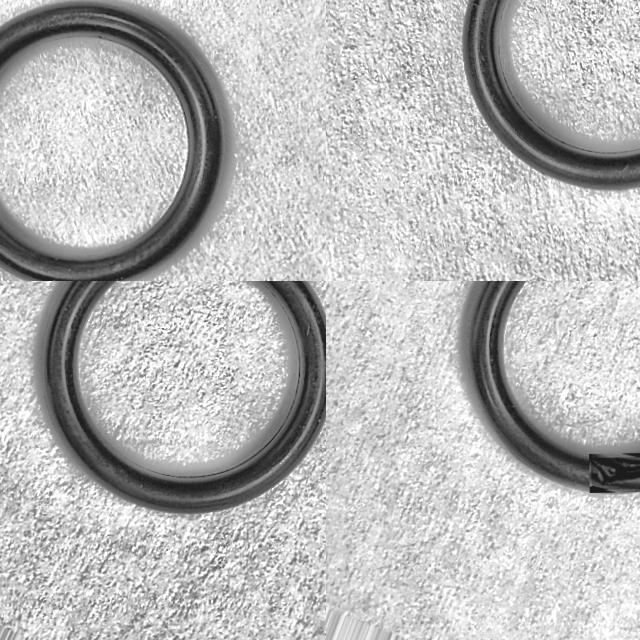切割缺陷: (591, 458, 640, 489)
